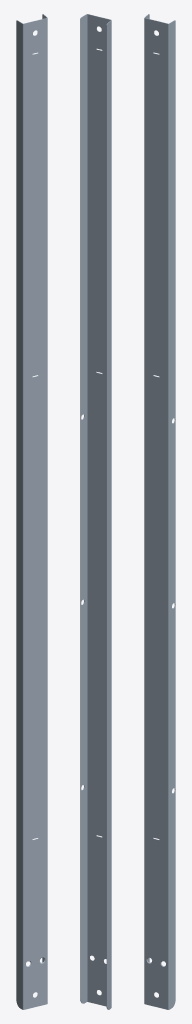
The model's file is sheet-md-17-04194-2-4-folded.glb.
3 renders of one model, left to right at view 1: azimuth 30°, elevation 25°; view 2: azimuth 150°, elevation 25°; view 3: azimuth 330°, elevation 25°, orthographic.
Visible parts, largest first — view 1: world; view 2: world; view 3: world.
Boxes of the visible parts, left/top/right/bottom form: world: left=16, top=14, right=47, bottom=1009; world: left=80, top=14, right=111, bottom=1009; world: left=144, top=14, right=175, bottom=1009.
Bounding box in the file's own units: 46.02 × 1626 × 17.39.
